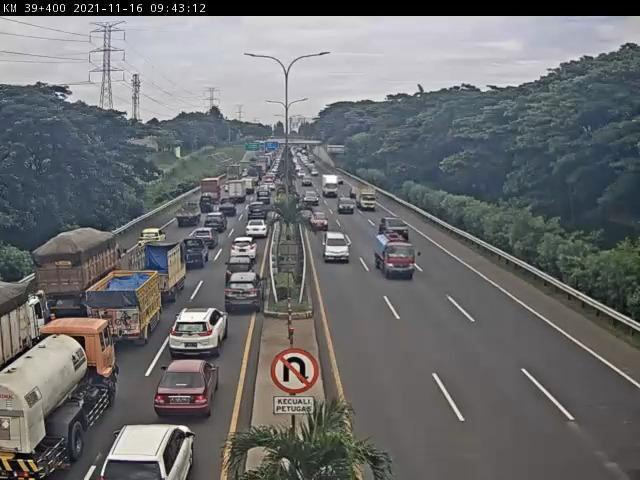car: (98, 418, 202, 480), (154, 358, 221, 421), (167, 305, 229, 355), (221, 271, 269, 317), (375, 212, 416, 243), (223, 255, 260, 288), (323, 232, 352, 267), (188, 225, 222, 250), (138, 227, 169, 251), (232, 237, 263, 261), (242, 216, 270, 238), (204, 211, 230, 232), (219, 196, 241, 219), (309, 210, 331, 233), (336, 196, 359, 215), (302, 190, 324, 208), (249, 203, 270, 220), (301, 176, 318, 191)
truck: (1, 314, 125, 480), (35, 226, 127, 318), (88, 272, 164, 347), (2, 278, 53, 369), (129, 244, 194, 307), (374, 235, 421, 284), (178, 237, 212, 269), (356, 181, 382, 213), (175, 202, 201, 225), (321, 173, 342, 198)
